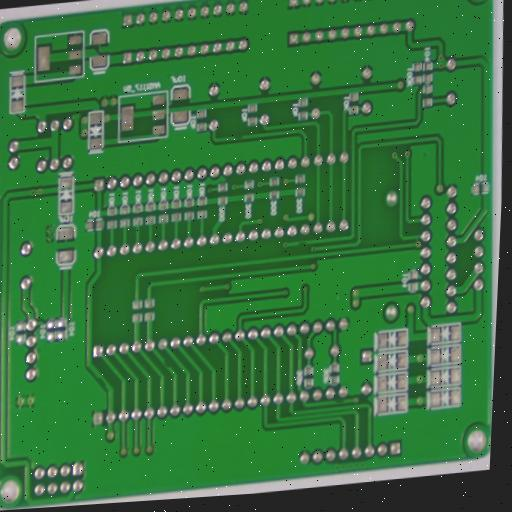mouse_bite: (93, 374, 109, 392), (229, 130, 246, 143), (330, 395, 346, 408), (160, 357, 172, 371), (294, 238, 309, 249)
